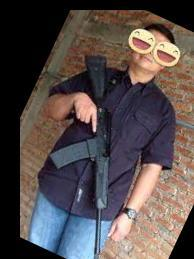larga: (48, 54, 113, 255)
